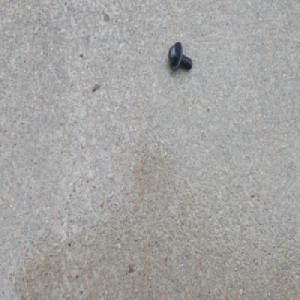BoltWasher: (166, 39, 191, 71)
